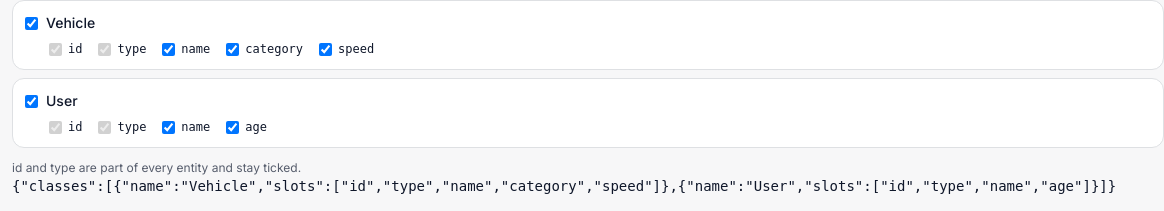
Test: model subset › distinguishes a class ticked with no slots from one not ticked
Step 1. Click the checkbox named "User.name" → (169, 127), box [162, 120, 175, 134]
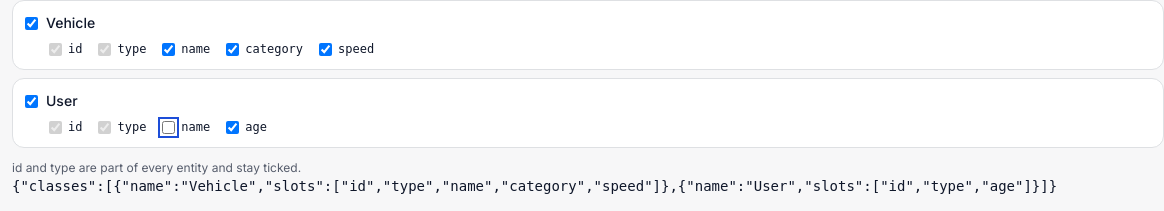
Step 2. Click the checkbox named "User.age" → (233, 127), box [226, 120, 239, 134]
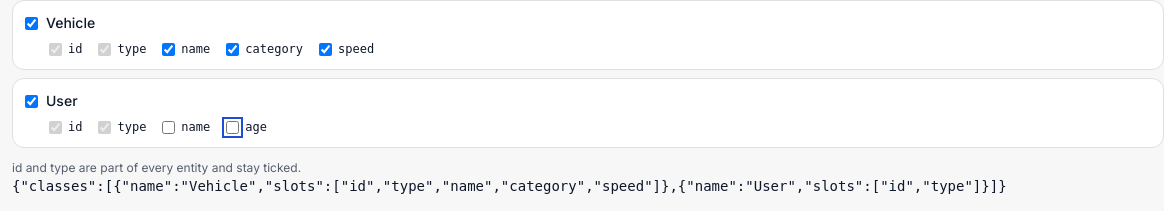
Step 3. Click the checkbox labelled "User" → (32, 101), box [25, 94, 38, 108]
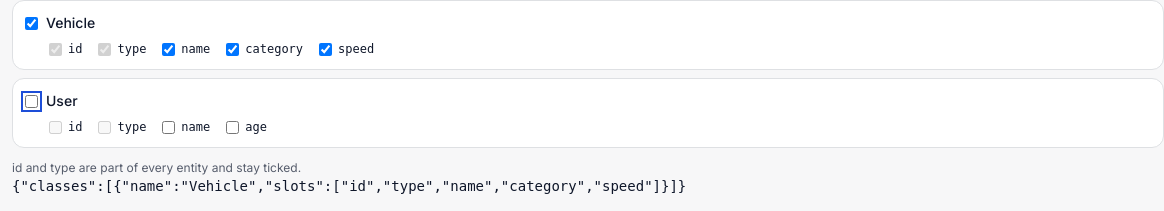
Check: the checkbox named "User.id" is not checked, box [49, 120, 62, 134]
